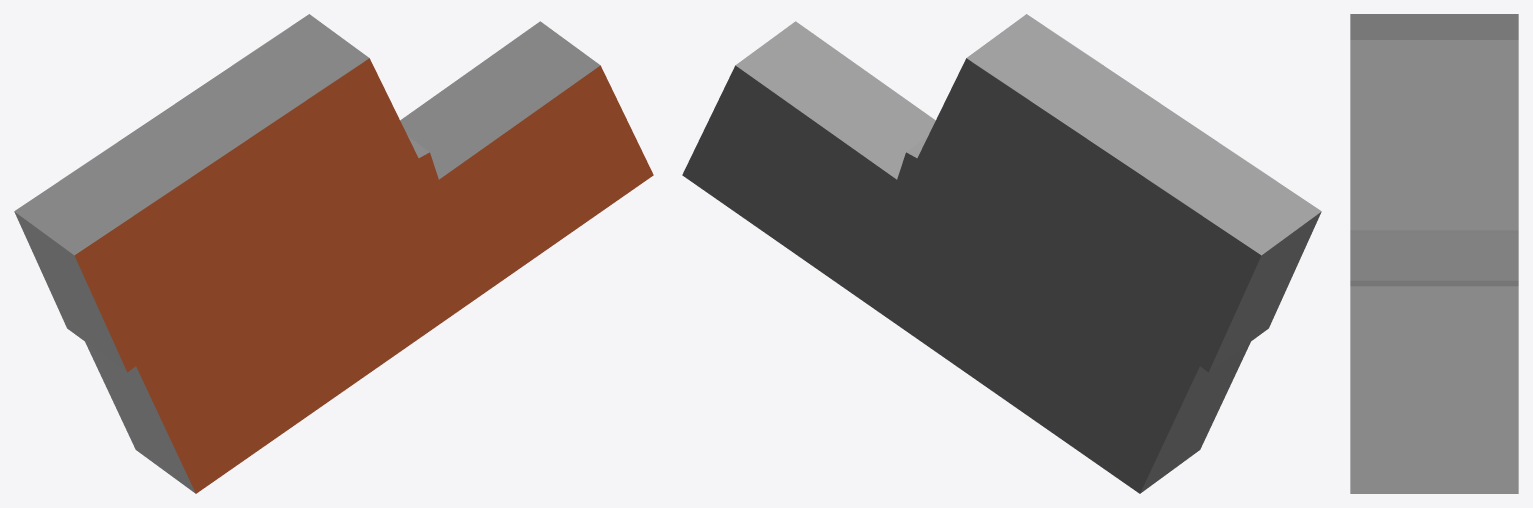
File: construction_5633_assumed_A_Casa_h6m.obj
3 renders of one model, left to right at view 1: azimuth 30°, elevation 25°; view 2: azimuth 150°, elevation 25°; view 3: azimuth 270°, elevation 25°, orthographic. The views are drawn at different scales.
Parts seen in each view (by area): view 1: construction_5633_assumed_A_Casa; view 2: construction_5633_assumed_A_Casa; view 3: construction_5633_assumed_A_Casa.
Boxes of the visible parts, x1,y1,x2,y2 form: construction_5633_assumed_A_Casa: (14, 14, 653, 493); construction_5633_assumed_A_Casa: (682, 14, 1321, 493); construction_5633_assumed_A_Casa: (1350, 14, 1518, 493).
Size of the model in its own units: 33.28 by 21.59 by 6.
